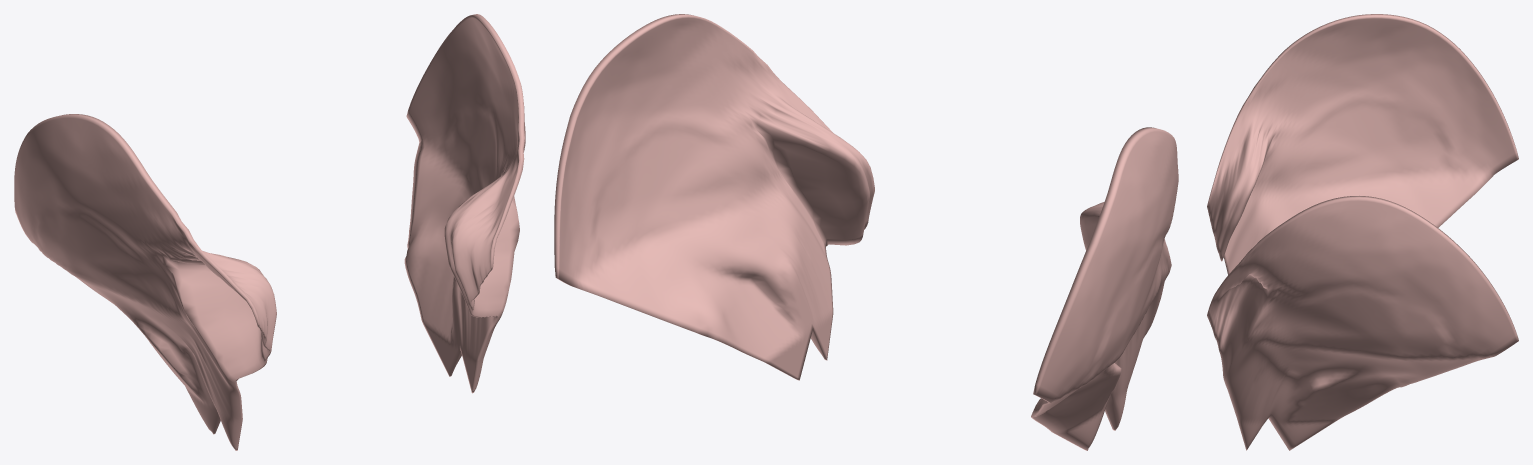
Rendered from temporalis.glb.
3 views of the same model, side by side, from view 1: azimuth 30°, elevation 25°; view 2: azimuth 150°, elevation 25°; view 3: azimuth 270°, elevation 25° (orthographic). The views are drawn at different scales.
Parts seen in each view (by area): view 1: temporalis_R, temporalis_L; view 2: temporalis_L, temporalis_R; view 3: temporalis_L, temporalis_R.
Boxes of the visible parts, bbox=[...] form: temporalis_R: bbox=[14, 114, 276, 450]; temporalis_L: bbox=[404, 14, 525, 393]; temporalis_L: bbox=[554, 14, 874, 380]; temporalis_R: bbox=[1031, 127, 1178, 450]; temporalis_L: bbox=[1207, 196, 1518, 450]; temporalis_R: bbox=[1207, 14, 1518, 274].
Size of the model in its own units: 0.1575 by 0.104 by 0.1017.
